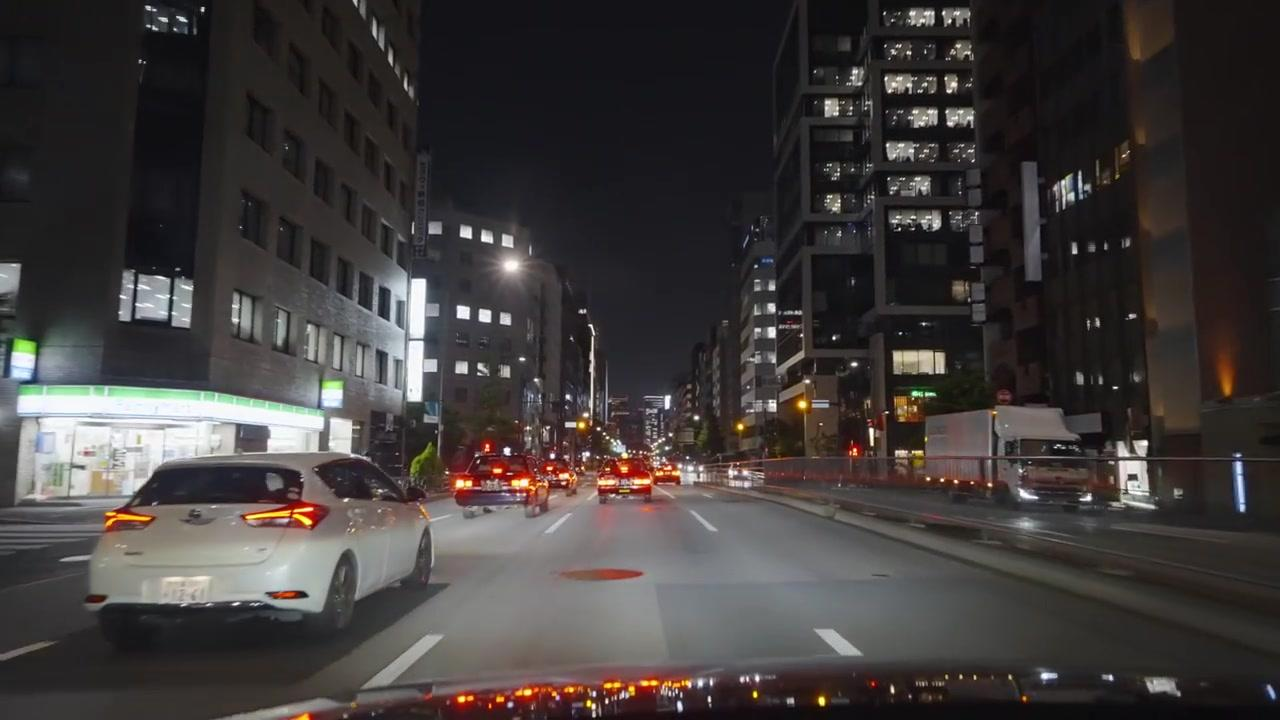car: (83, 451, 435, 649), (452, 454, 550, 518), (597, 458, 653, 501), (539, 458, 578, 494), (726, 464, 760, 488), (653, 461, 678, 485)
traffic light: (800, 393, 811, 413), (849, 442, 860, 456)
truck: (924, 405, 1095, 508)
